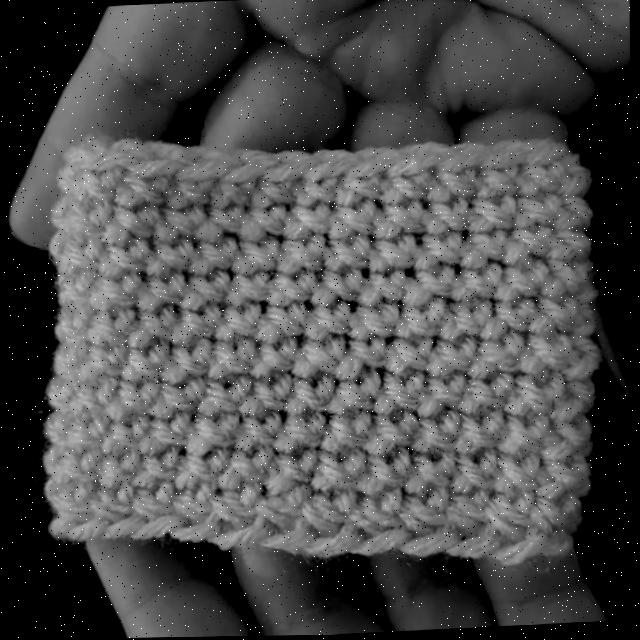ch: (488, 538, 567, 563), (92, 515, 157, 539), (398, 533, 462, 557), (352, 530, 418, 553), (63, 518, 122, 542), (301, 534, 364, 556), (124, 516, 186, 538), (213, 526, 274, 548), (443, 536, 502, 557), (257, 533, 318, 552), (170, 520, 219, 540)
sc: (113, 142, 197, 207), (167, 143, 244, 211), (378, 143, 457, 206), (81, 139, 157, 203), (251, 150, 324, 209), (213, 148, 283, 208), (337, 147, 404, 205), (429, 142, 491, 203), (295, 150, 359, 208), (479, 141, 540, 201), (44, 477, 95, 539), (518, 139, 571, 197), (471, 331, 530, 380), (477, 492, 536, 540), (342, 490, 406, 532), (300, 489, 358, 535), (507, 371, 566, 416), (256, 488, 315, 532), (311, 450, 366, 495), (457, 374, 514, 417), (198, 375, 254, 418), (155, 375, 208, 420), (240, 373, 294, 417), (425, 336, 478, 380), (329, 370, 380, 415), (479, 301, 536, 341), (285, 374, 338, 417), (335, 336, 388, 379), (524, 495, 582, 534), (219, 449, 275, 489), (419, 370, 467, 416), (181, 413, 239, 451), (140, 412, 191, 455), (276, 233, 327, 276), (327, 199, 378, 242), (322, 411, 375, 452), (495, 264, 552, 302), (539, 455, 589, 498), (257, 300, 307, 343), (405, 453, 456, 495), (108, 380, 159, 422), (366, 414, 417, 456), (294, 336, 345, 378), (454, 450, 500, 496), (403, 489, 450, 534), (414, 408, 461, 453), (377, 372, 426, 415), (454, 262, 503, 305), (545, 419, 595, 461), (375, 200, 426, 241), (276, 412, 328, 452), (382, 336, 434, 376), (521, 338, 573, 378), (458, 409, 504, 454), (235, 412, 286, 452), (109, 205, 160, 245), (156, 204, 208, 243), (166, 338, 210, 384), (183, 268, 231, 310), (366, 233, 416, 273), (226, 237, 280, 274), (90, 274, 147, 309), (179, 452, 234, 488), (131, 305, 177, 348), (501, 415, 548, 457), (251, 337, 299, 378), (120, 342, 170, 381), (397, 300, 447, 339), (77, 344, 128, 382), (552, 379, 597, 422), (515, 194, 564, 233), (471, 195, 520, 234), (170, 306, 220, 344), (413, 233, 463, 271), (68, 201, 113, 243), (363, 453, 409, 494), (502, 227, 549, 267), (270, 450, 319, 488), (193, 234, 238, 275), (351, 302, 402, 338), (216, 487, 263, 526), (313, 269, 362, 306), (210, 339, 255, 379), (407, 270, 457, 306), (285, 202, 330, 242), (462, 231, 508, 270), (216, 305, 263, 343), (103, 239, 150, 277), (240, 205, 287, 243), (441, 493, 490, 529), (87, 308, 136, 344), (196, 206, 245, 242), (531, 297, 576, 336), (442, 302, 492, 337), (306, 302, 349, 342), (358, 272, 408, 306), (74, 377, 117, 416), (547, 228, 593, 264), (102, 419, 149, 454), (60, 445, 100, 486), (543, 261, 586, 299), (561, 335, 597, 380), (270, 271, 315, 307), (498, 454, 539, 493), (557, 151, 591, 198), (427, 198, 469, 236), (141, 448, 184, 485), (142, 272, 185, 309), (64, 416, 112, 449), (149, 239, 193, 275), (130, 483, 176, 517), (327, 238, 370, 273), (55, 300, 93, 339), (553, 196, 592, 233), (95, 484, 136, 518), (178, 482, 215, 519), (226, 273, 270, 304), (99, 453, 136, 487), (55, 342, 87, 379), (66, 240, 100, 273), (41, 409, 73, 444), (59, 273, 93, 305), (49, 378, 70, 408), (42, 447, 63, 473)
